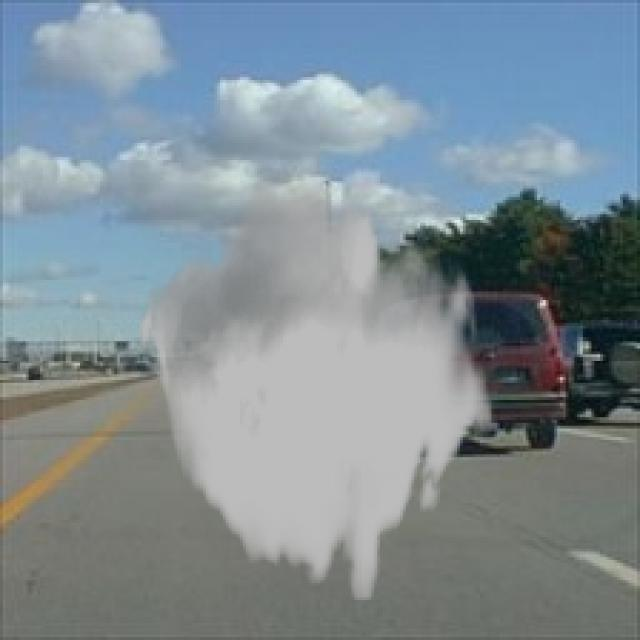Smoke: (137, 177, 494, 600)
